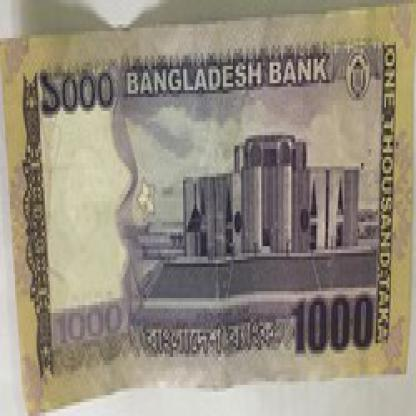One Thousand taka: (286, 298, 376, 354), (36, 66, 116, 121), (51, 298, 126, 347)
